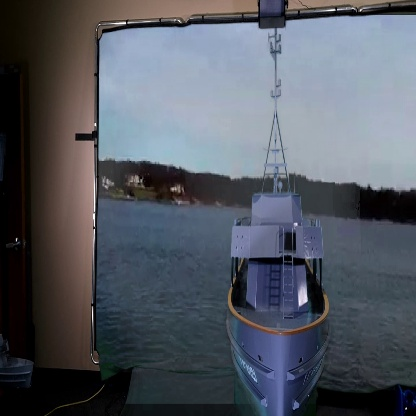YP689: (226, 29, 333, 416)
